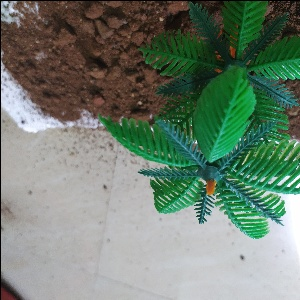plant: (101, 73, 296, 251), (142, 5, 300, 135)
